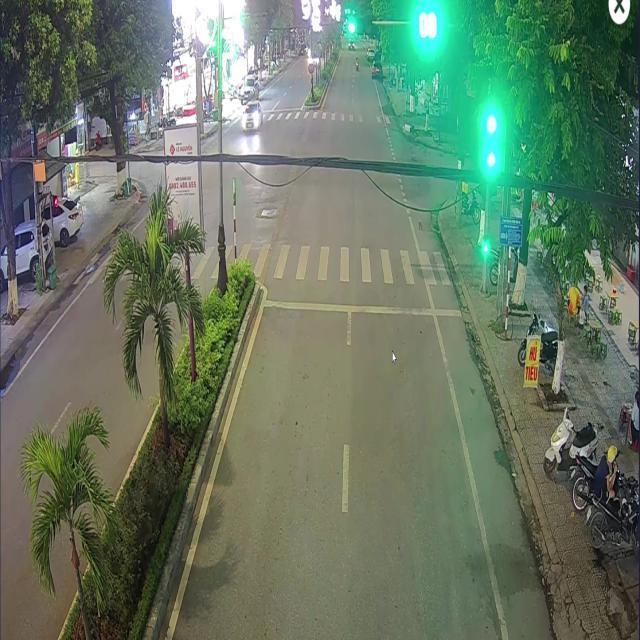green_light: (484, 106, 500, 177), (345, 15, 372, 35)
stop_line: (263, 298, 460, 316)
